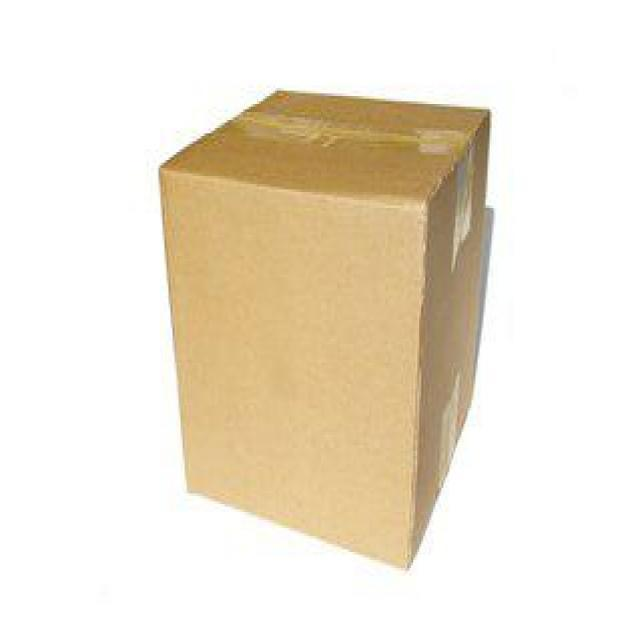box: (154, 85, 496, 576)
